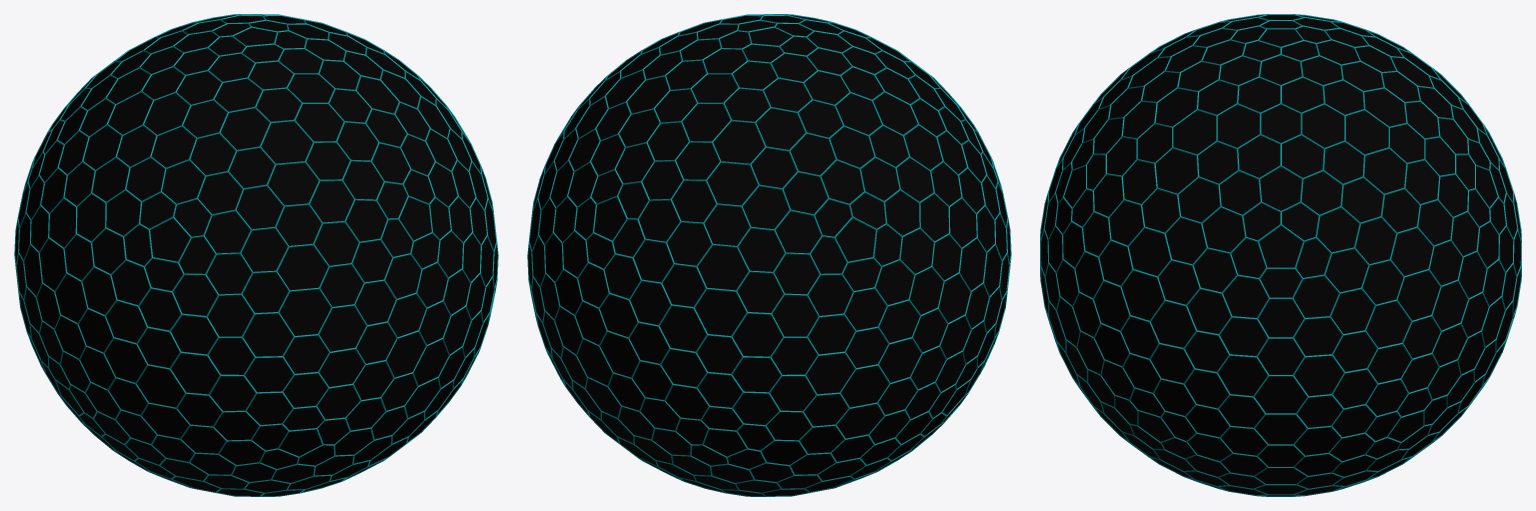
File: hex-sphere.obj
3 renders of one model, left to right at view 1: azimuth 30°, elevation 25°; view 2: azimuth 150°, elevation 25°; view 3: azimuth 270°, elevation 25°, orthographic.
Parts seen in each view (by area): view 1: Sphere_Icosphere.002, Frame_Icosphere.001; view 2: Sphere_Icosphere.002, Frame_Icosphere.001; view 3: Sphere_Icosphere.002, Frame_Icosphere.001.
Boxes of the visible parts, <box> form: Sphere_Icosphere.002: <box>15,15,497,495</box>; Frame_Icosphere.001: <box>14,14,498,496</box>; Sphere_Icosphere.002: <box>528,15,1010,495</box>; Frame_Icosphere.001: <box>527,14,1011,496</box>; Sphere_Icosphere.002: <box>1041,15,1520,495</box>; Frame_Icosphere.001: <box>1040,14,1521,496</box>.
Bounding box in the file's own units: 1.98 × 1.98 × 1.98.
